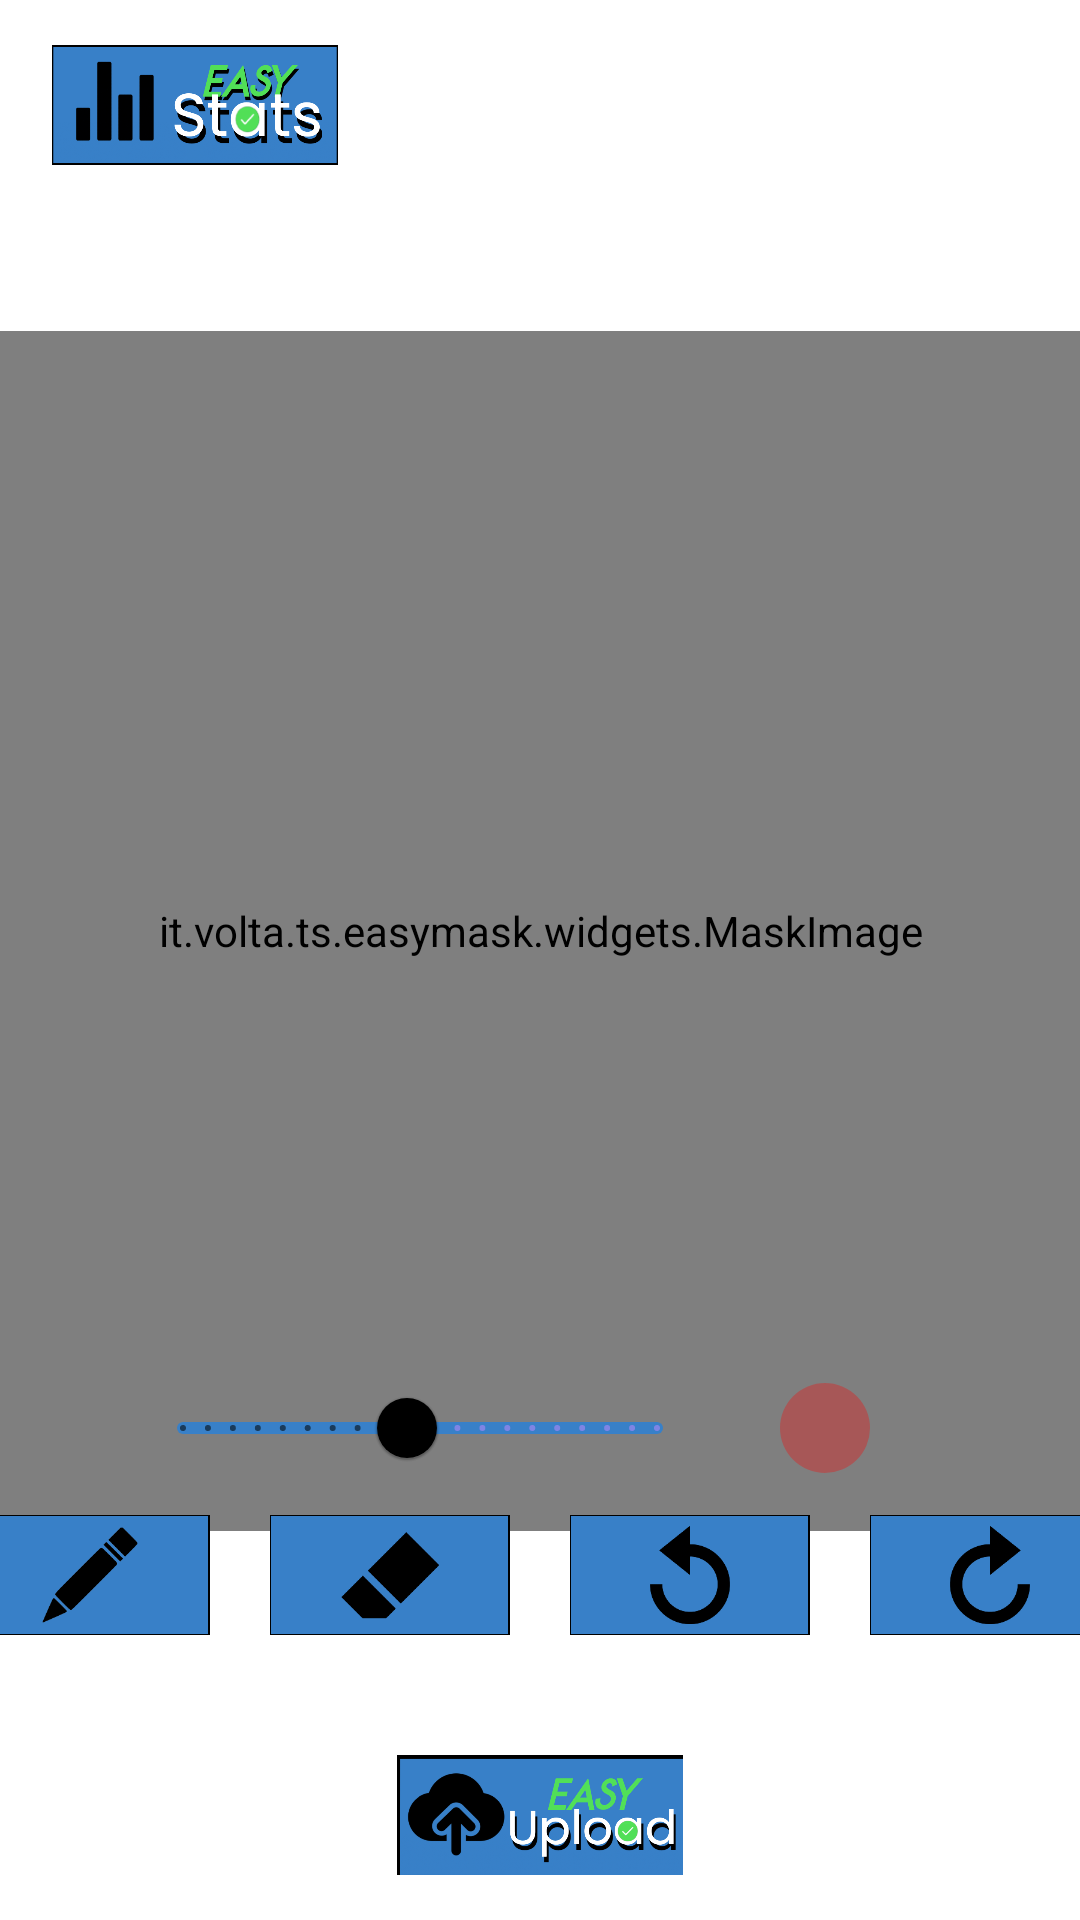

Icon click points for this 1080×1920 phone screenshot, format (x=x, y=y):
btngomma: (x=390, y=1575)
btnundo: (x=690, y=1575)
